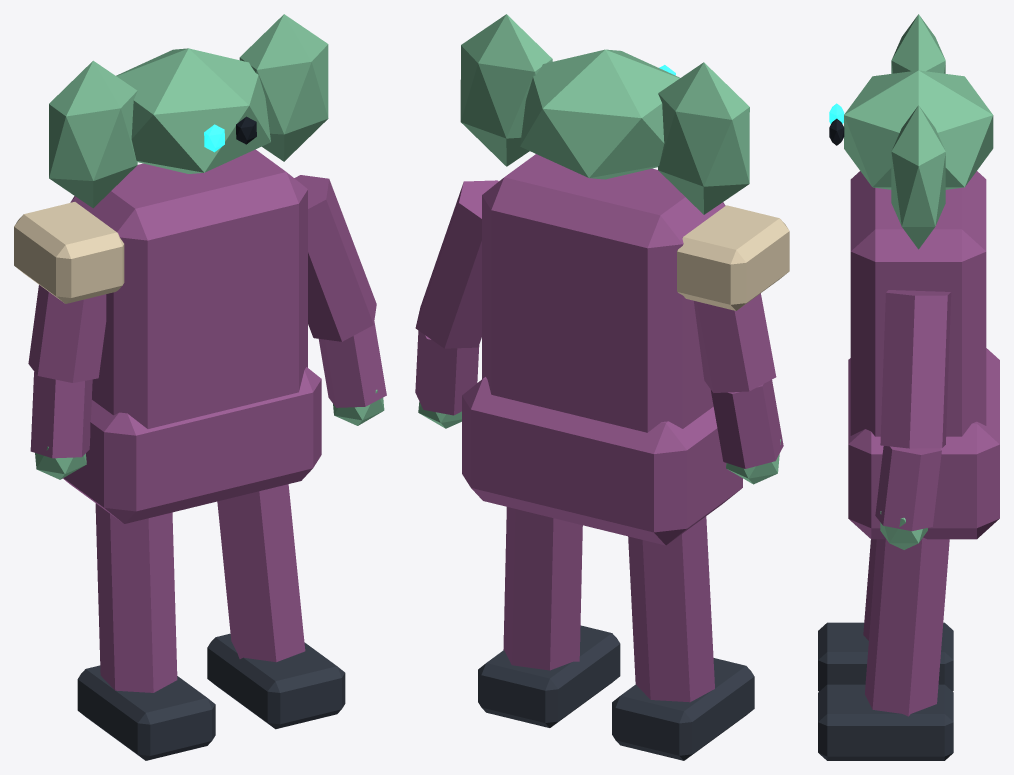
File: npcs_007_seed11.glb
3 views of the same model, side by side, from view 1: azimuth 30°, elevation 25°; view 2: azimuth 150°, elevation 25°; view 3: azimuth 270°, elevation 25° (orthographic). The views are drawn at different scales.
Visible parts, largest first — view 1: npcs_007_seed11; view 2: npcs_007_seed11; view 3: npcs_007_seed11.
Boxes of the visible parts, bbox=[...] form: npcs_007_seed11: bbox=[14, 14, 386, 760]; npcs_007_seed11: bbox=[415, 14, 789, 760]; npcs_007_seed11: bbox=[818, 14, 999, 760].
Bounding box in the file's own units: 1.09 × 1.99 × 0.5013.
